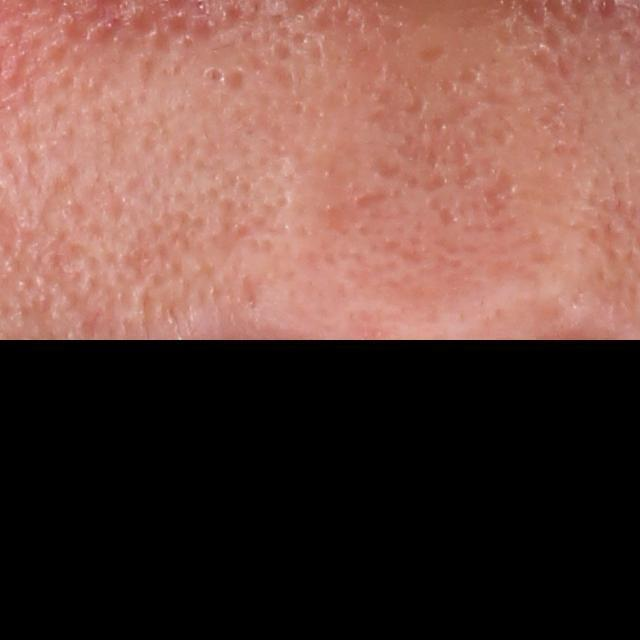atrophic_scar: (360, 75, 480, 187), (313, 186, 393, 236), (482, 164, 519, 213), (366, 155, 406, 183)
comedo: (195, 62, 233, 94)
